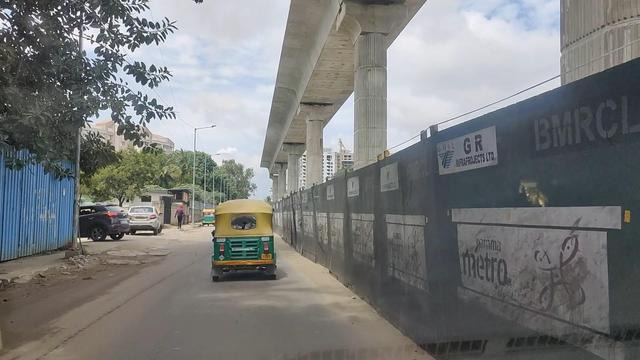LMV: (208, 198, 282, 282)
RoadDamages: (96, 246, 175, 271)
